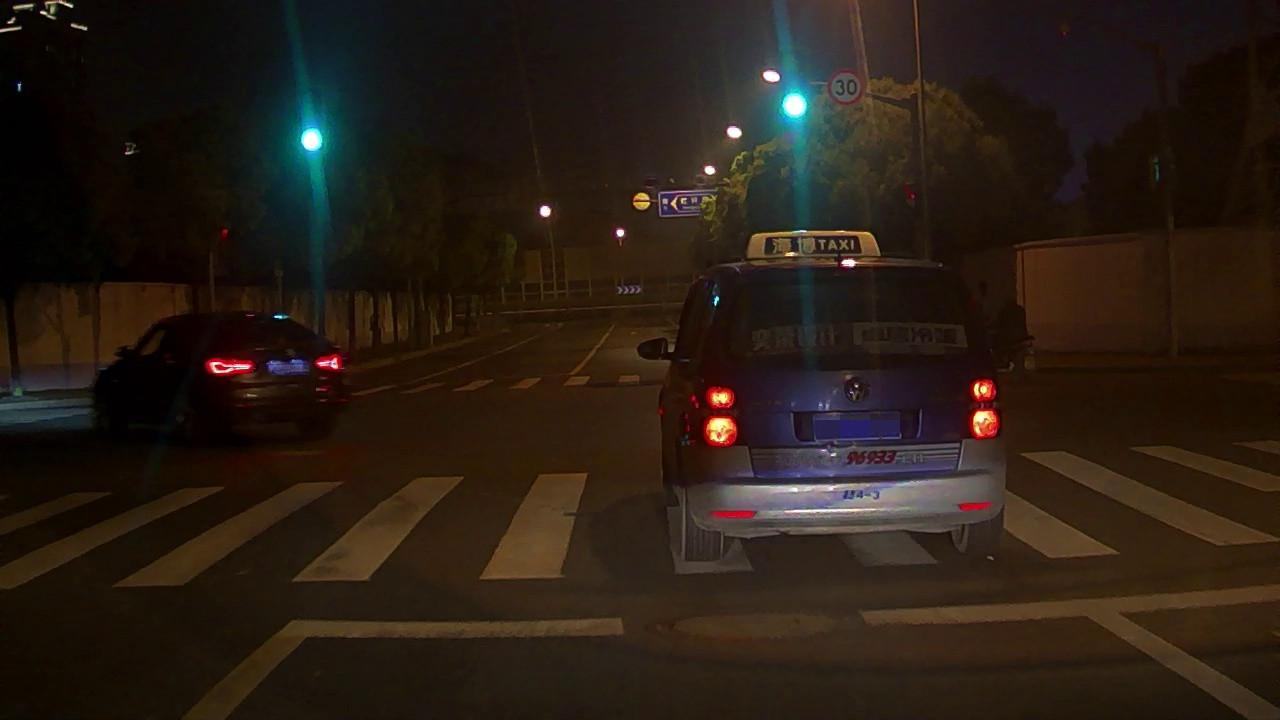traffic_light: (301, 89, 324, 153), (780, 90, 806, 118)
